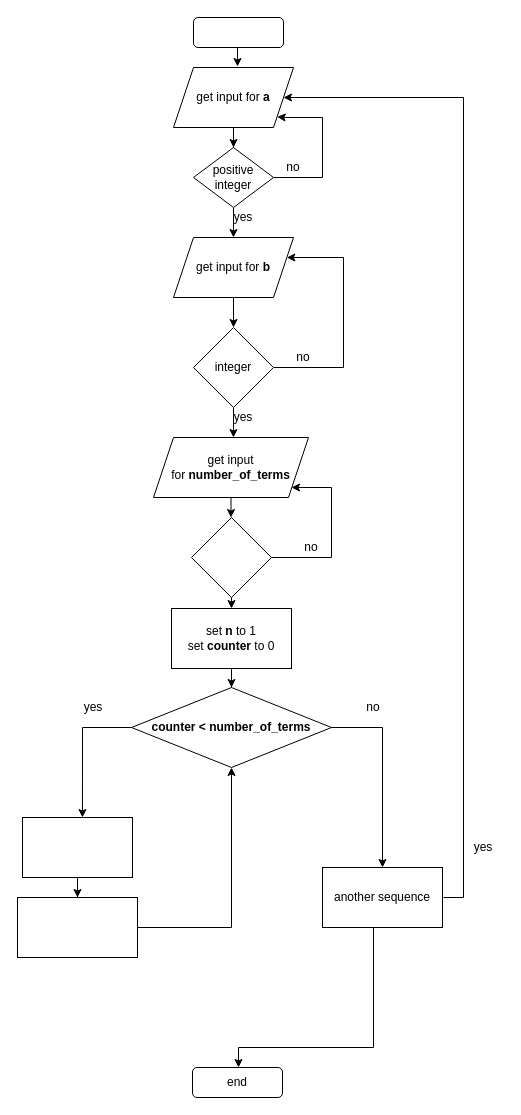
The diagram is 521 pixels wide and 1115 high, and some of its shapes have lost their labels. The shapes that lost their labels are listed below. From the top down, each one's centre as x and y in pixels, then its label:
At (238,32): "start".
At (231,557): "integer and > 0".
At (77,847): "U n = an + b".
At (77,927): "counter ++ n++".
